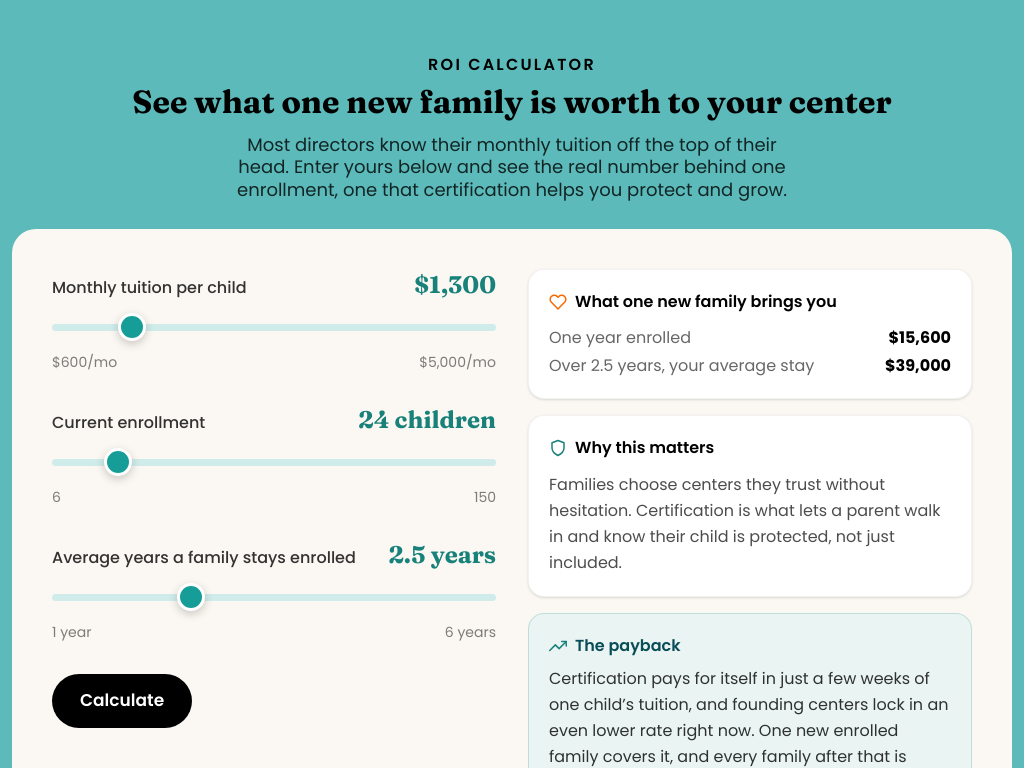
Test case: RoiCalculator › recalculates the dollar values when Calculate is clicked
Expected: the text "$15,600" is shown, [888,326,951,350]
Expected: the text "$39,000" is shown, [885,354,951,378]
Set the slider named "Monthly tuition per child" to "2000" at [196, 327], box [52,313,496,341]
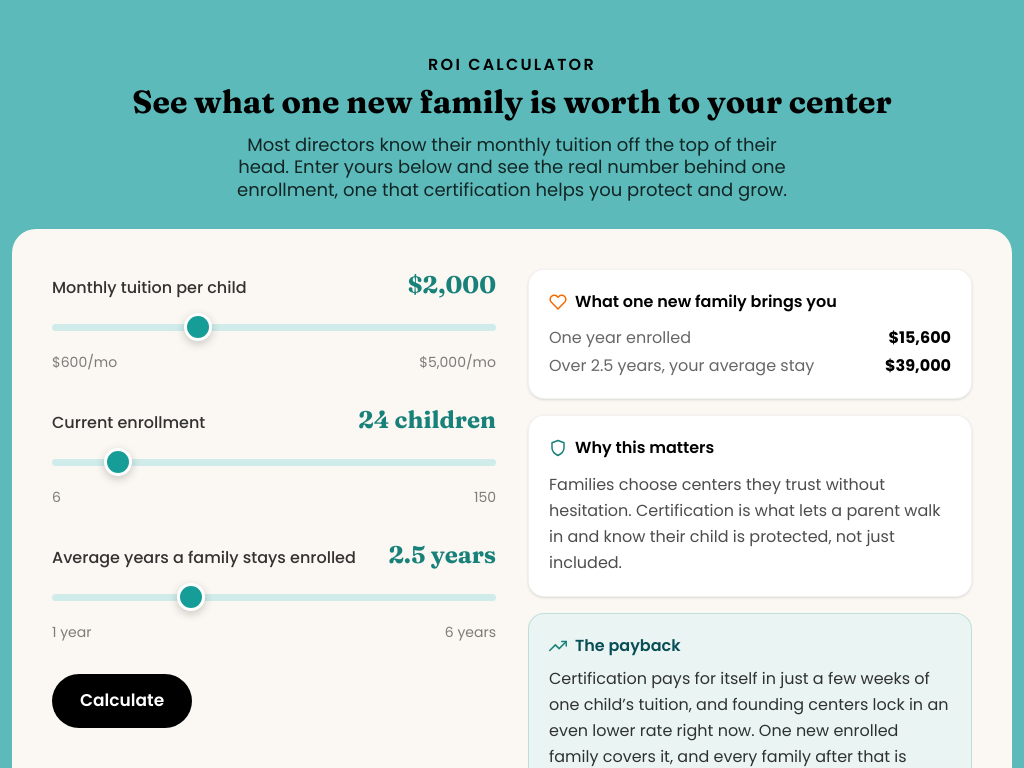
Set the slider named "Average years a family stays enrolled" to "3" at [231, 597], box [52,583,496,611]
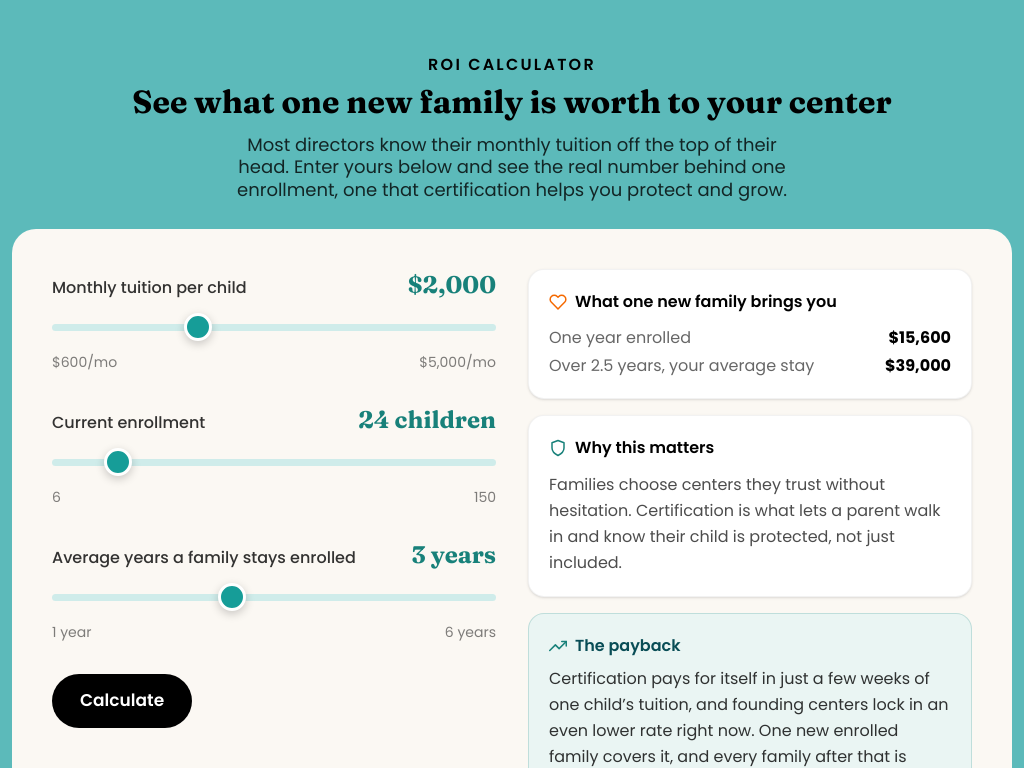
Expected: the text "$15,600" is shown, [888,326,951,350]
Expected: the text "$39,000" is shown, [885,354,951,378]
Click the button "Calculate" at [122, 701], box [52,674,192,728]
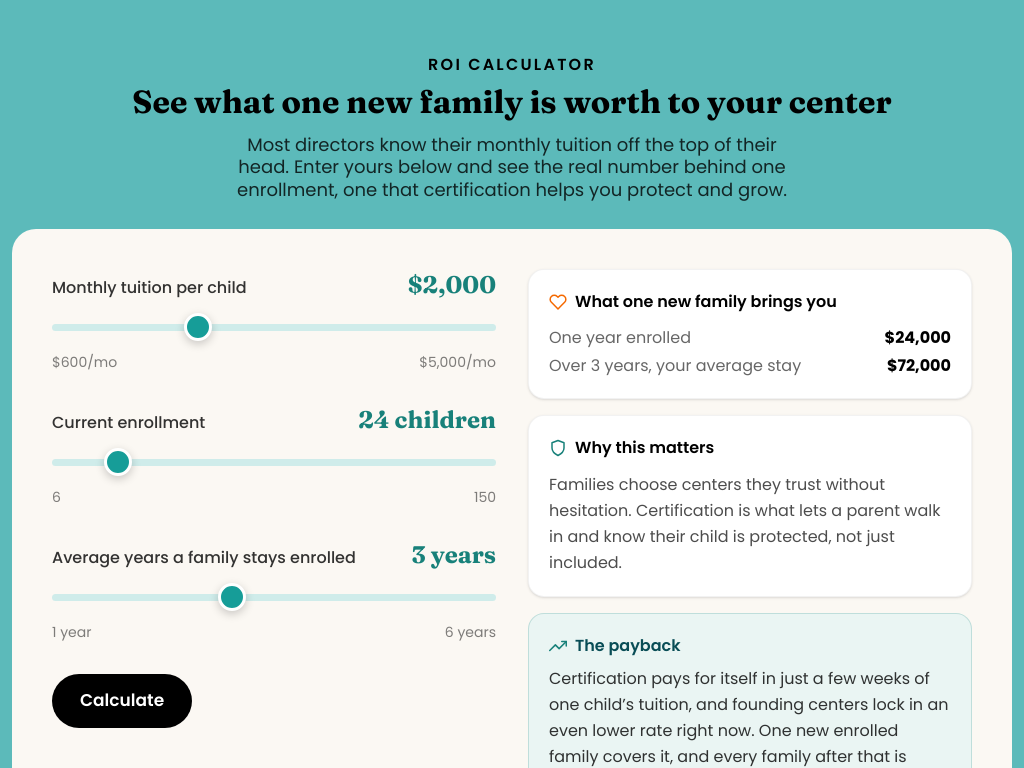
Expected: the text "$24,000" is shown, [885,326,951,350]
Expected: the text "$72,000" is shown, [887,354,951,378]
